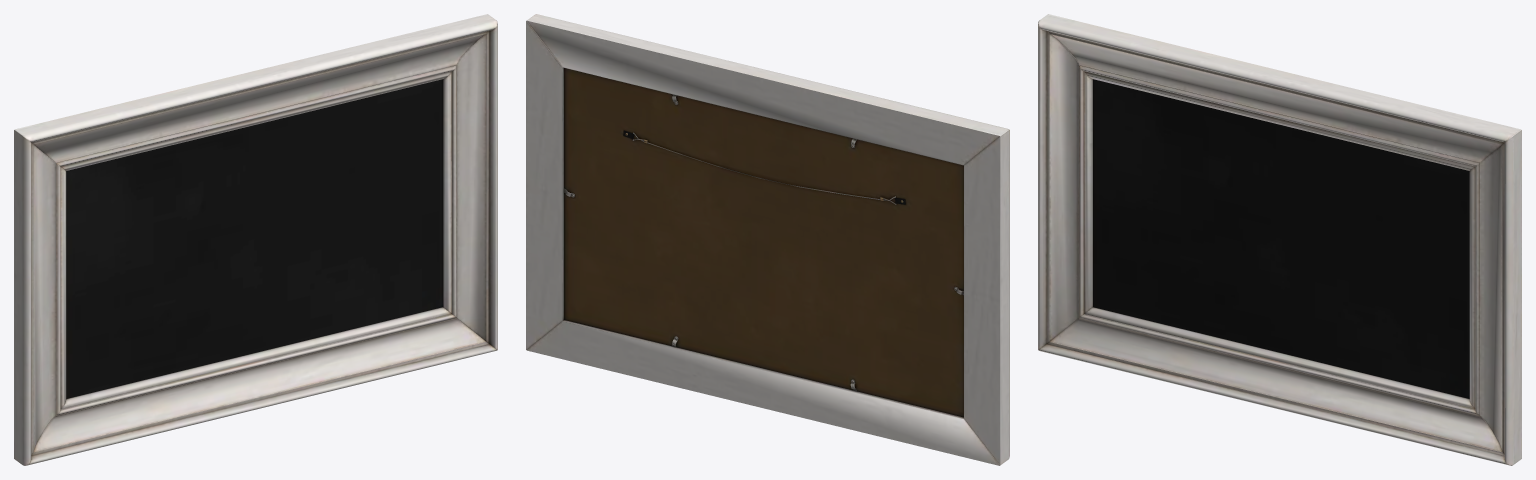
The model's file is hanging_picture_frame_02.glb.
3 views of the same model, side by side, from view 1: azimuth 30°, elevation 25°; view 2: azimuth 150°, elevation 25°; view 3: azimuth 330°, elevation 25° (orthographic).
Visible parts, largest first — view 1: hanging_picture_frame_02; view 2: hanging_picture_frame_02; view 3: hanging_picture_frame_02.
Boxes of the visible parts, bbox=[...] form: hanging_picture_frame_02: bbox=[14, 14, 497, 465]; hanging_picture_frame_02: bbox=[526, 14, 1009, 465]; hanging_picture_frame_02: bbox=[1038, 14, 1521, 465].
Bounding box in the file's own units: 0.7518 × 0.5 × 0.033.
3 materials, 3 textured.
